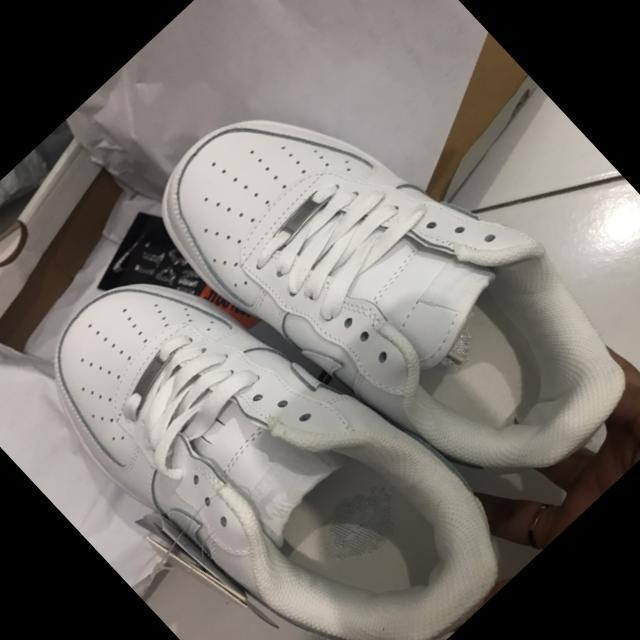nike fake air force: (119, 15, 640, 567), (7, 194, 538, 640)
